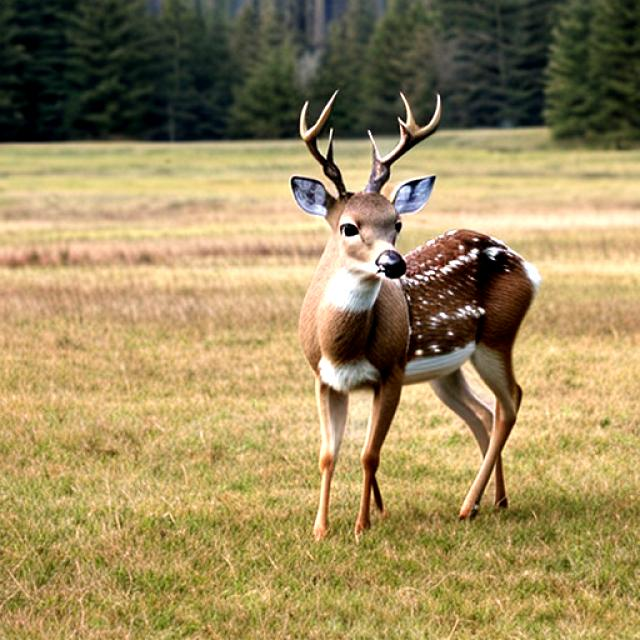deer: (285, 111, 457, 287), (466, 65, 471, 111)
